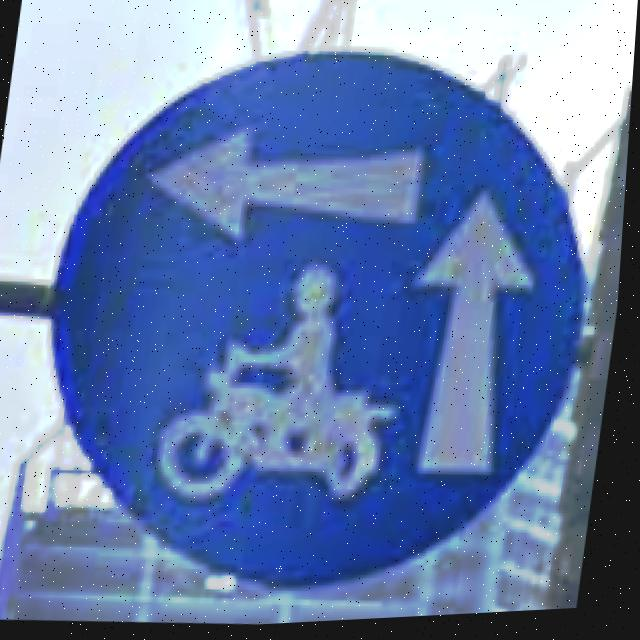twostageturn: (50, 54, 591, 594)
